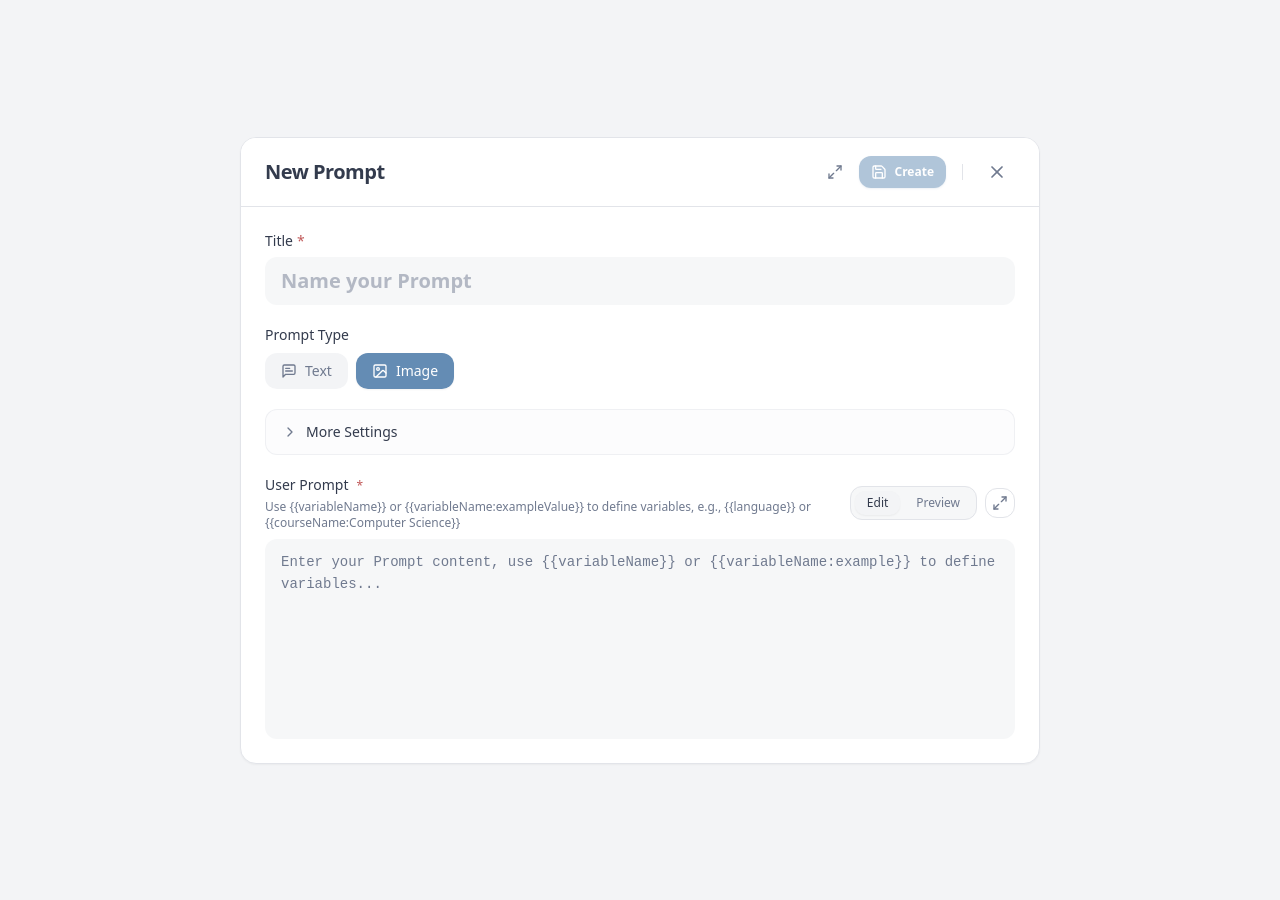
Test: Prompt modal structure › keeps create modal first screen focused on type and prompt content
The width and height of the screenshot is (1280, 900).
Check: the text "Prompt Type" is shown, box [265,324,349,344]
Check: the text "User Prompt" is shown, box [265,474,348,494]
What coordinates should you click on to do the following:
click the button "More Settings"
I would click on:
 (352, 431)
Its box is [266,410,1014,454].
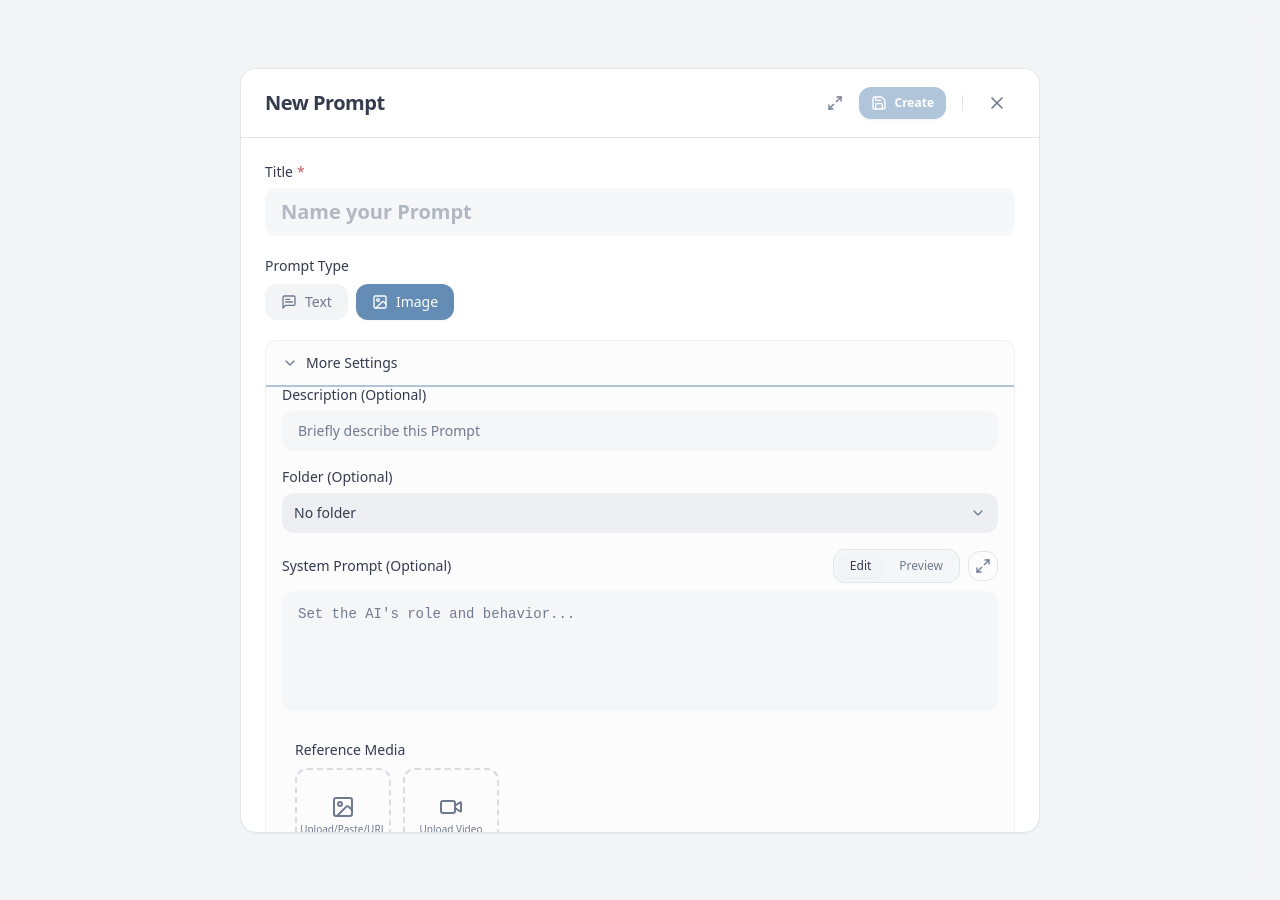
Check: the text "Description (Optional)" is shown, box [282,384,426,404]
Check: the text "System Prompt (Optional)" is shown, box [282,556,451,576]
Check: the text "Reference Media" is shown, box [295,740,405,758]
